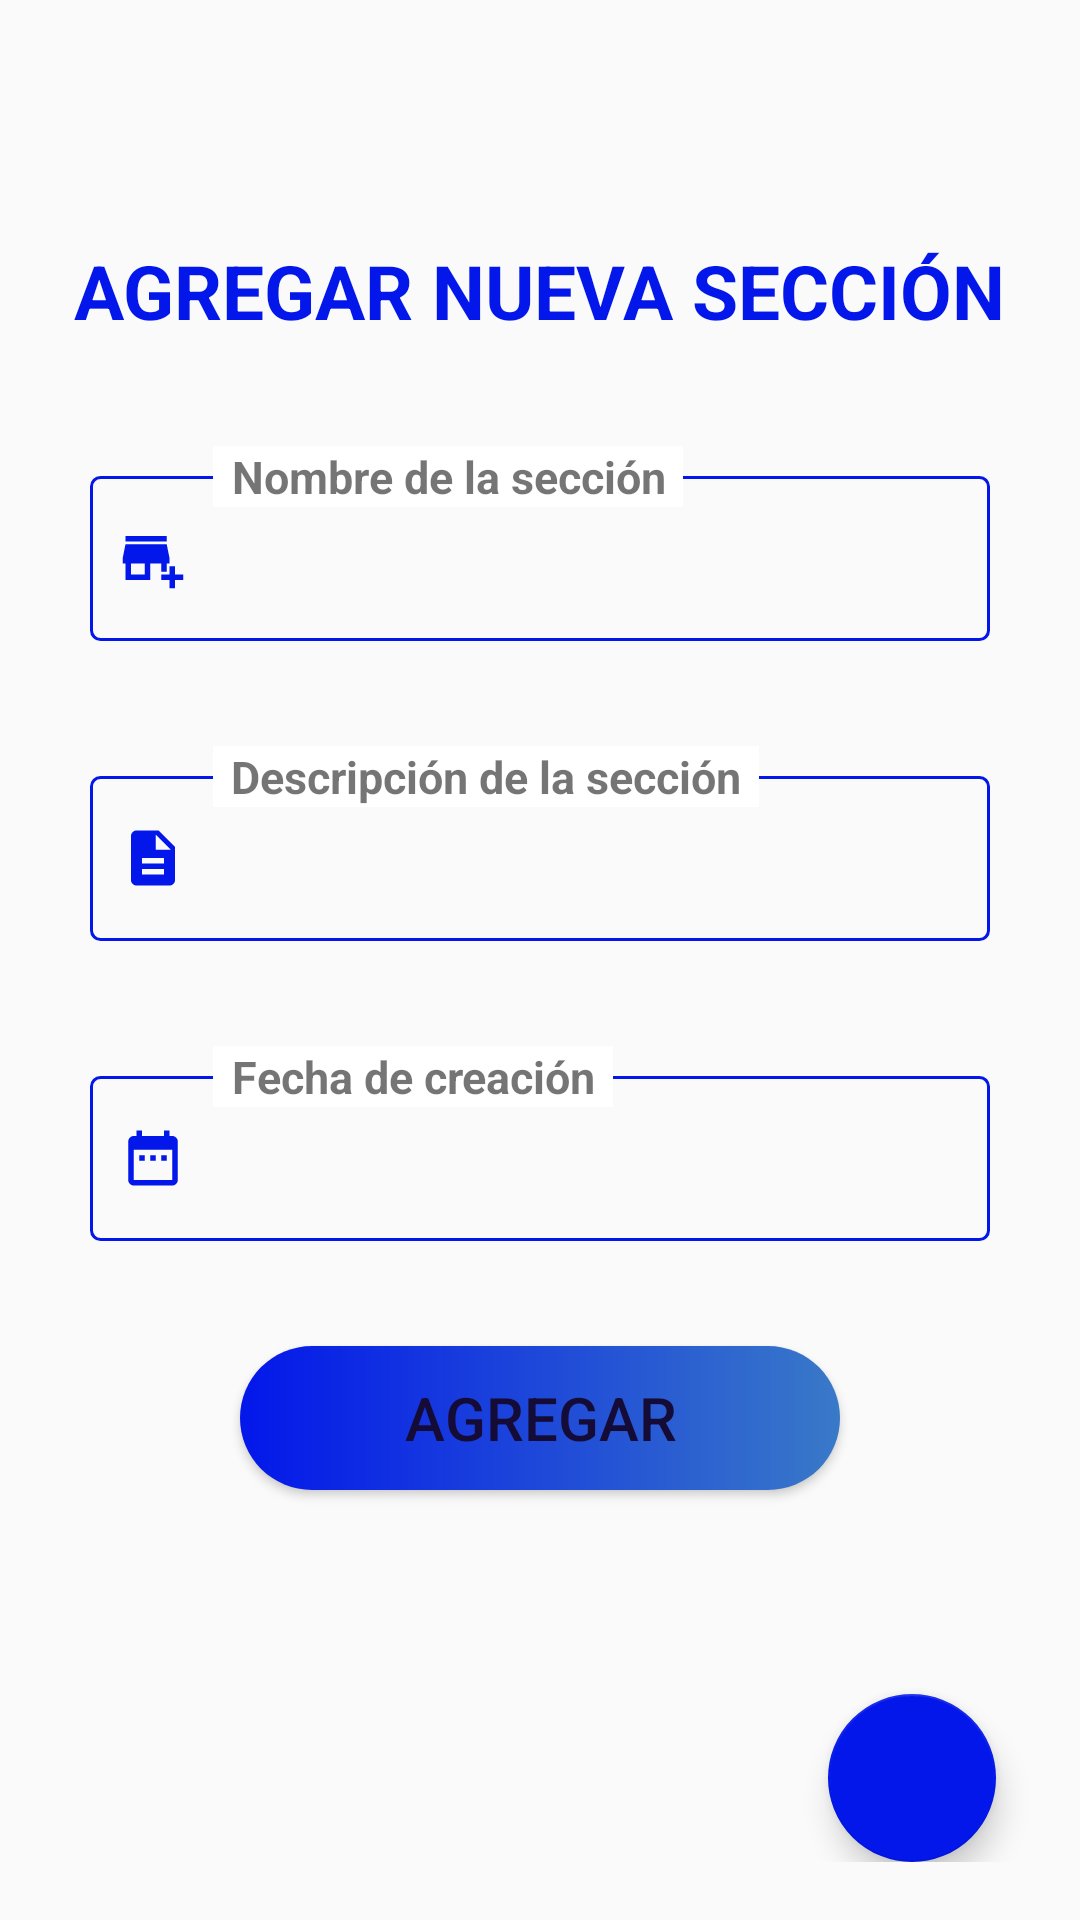

Where icons sit on this 1080w x 1920h app screen, as box(x1, y1, x2, y2):
descripcionpr quickcellar: box(131, 830, 175, 886)
fecha quickcellar: box(128, 1130, 178, 1186)
seccion quickcellar: box(122, 536, 184, 589)
